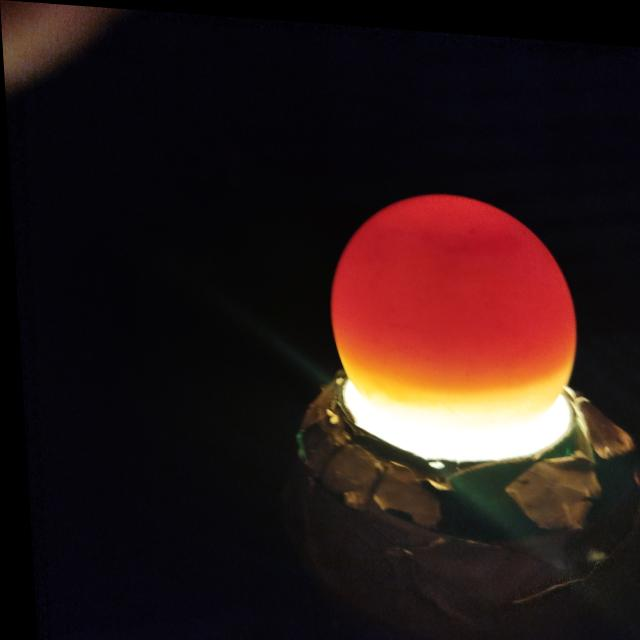Gema Quebrada: (326, 189, 574, 382)
